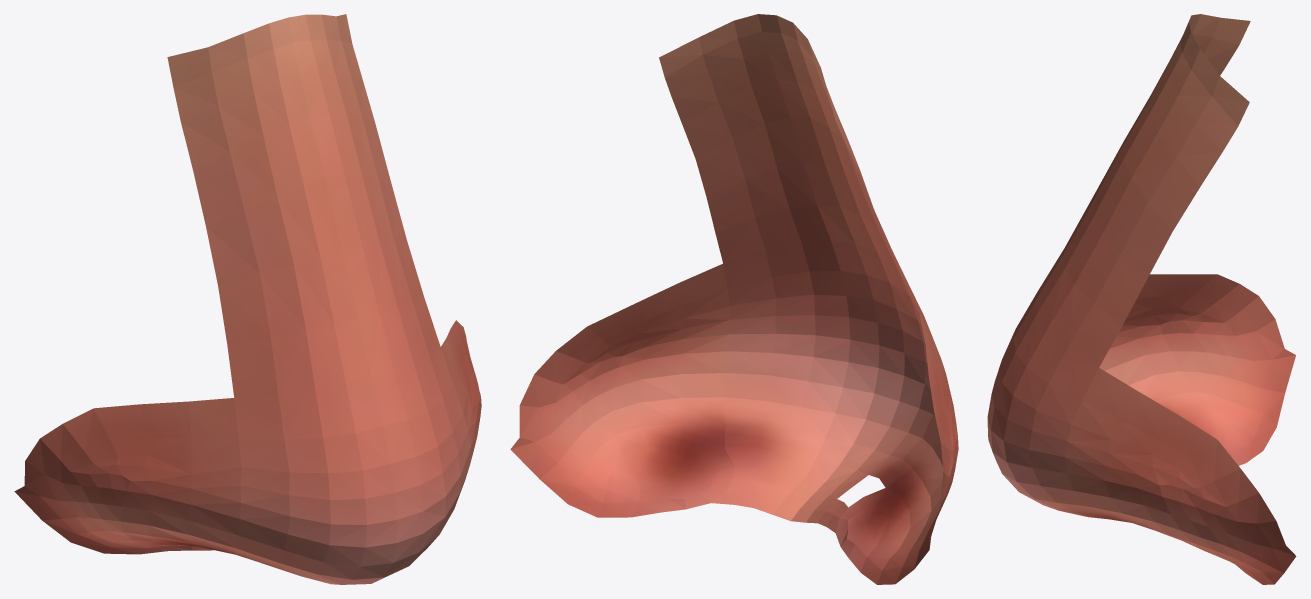
The model's file is euro-nose-region-concave.obj.
3 views of the same model, side by side, from view 1: azimuth 30°, elevation 25°; view 2: azimuth 150°, elevation 25°; view 3: azimuth 270°, elevation 25° (orthographic). The views are drawn at different scales.
Parts seen in each view (by area): view 1: euro-nose-region-conc.001; view 2: euro-nose-region-conc.001; view 3: euro-nose-region-conc.001.
Boxes of the visible parts, x1=… form: euro-nose-region-conc.001: x1=14, y1=14, x2=481, y2=584; euro-nose-region-conc.001: x1=510, y1=14, x2=958, y2=584; euro-nose-region-conc.001: x1=987, y1=14, x2=1296, y2=584.
Size of the model in its own units: 0.2137 by 0.2509 by 0.1396.
Materials: 1 (1 with a texture image).
